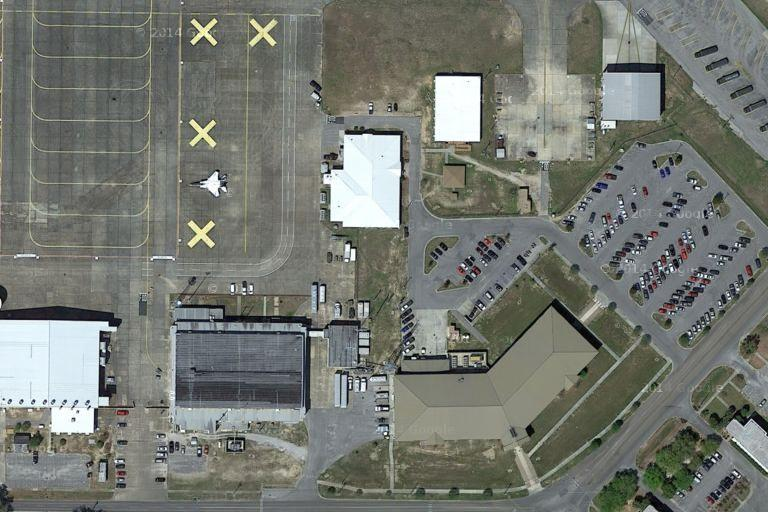F-15: (182, 166, 231, 198)
